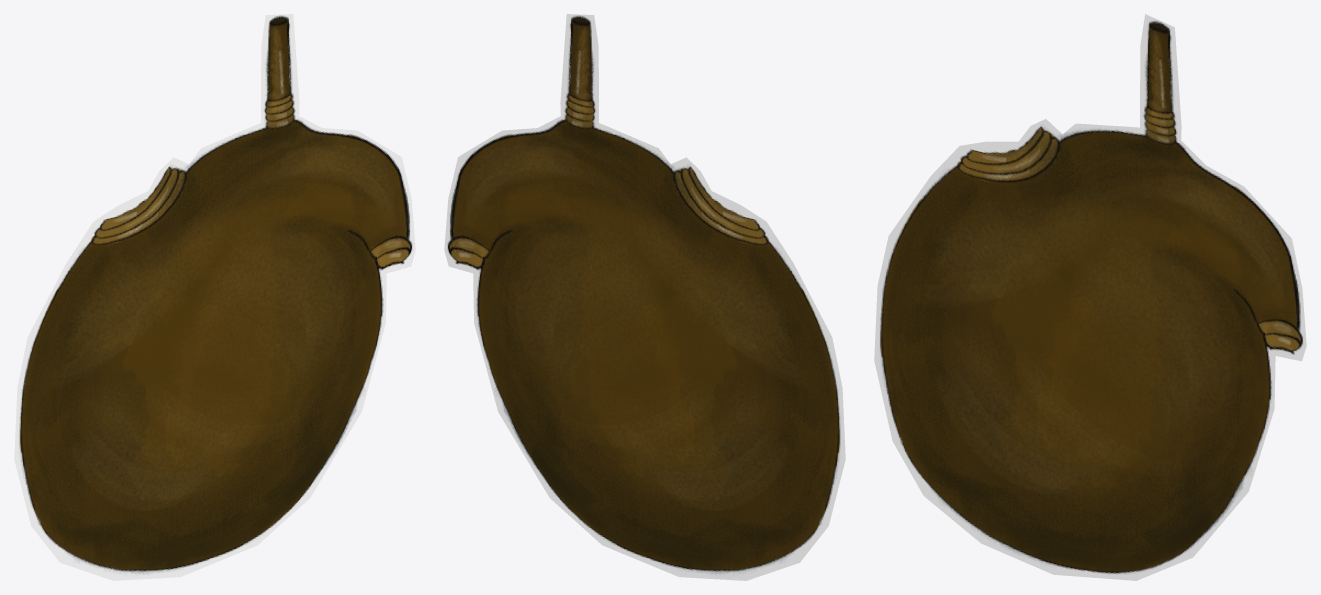
The model's file is mech.glb.
3 renders of one model, left to right at view 1: azimuth 30°, elevation 25°; view 2: azimuth 150°, elevation 25°; view 3: azimuth 330°, elevation 25°, orthographic. The views are drawn at different scales.
Visible parts, largest first — view 1: Plane.006; view 2: Plane.006; view 3: Plane.006.
Part boxes in pixels (x1,y1,x2,y2): Plane.006: (14, 14, 415, 580); Plane.006: (444, 14, 845, 580); Plane.006: (874, 14, 1306, 580).
Bounding box in the file's own units: 8.84 × 11.39 × 0.
Materials: 1 (1 with a texture image).
